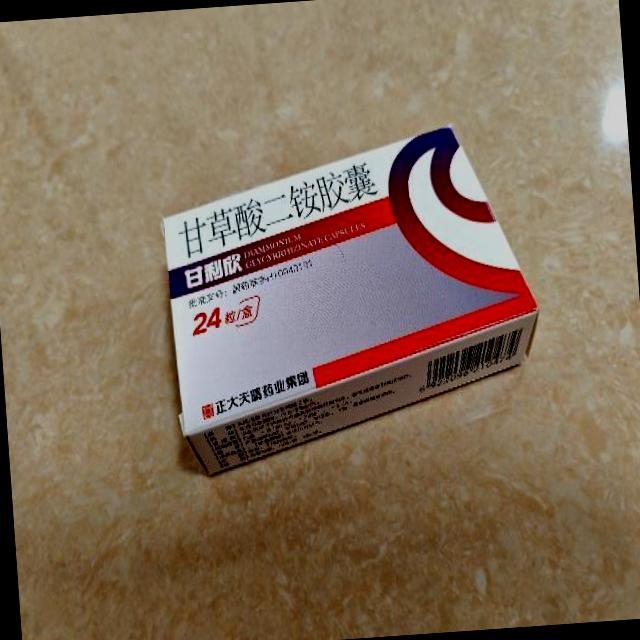box: (159, 120, 548, 478)
